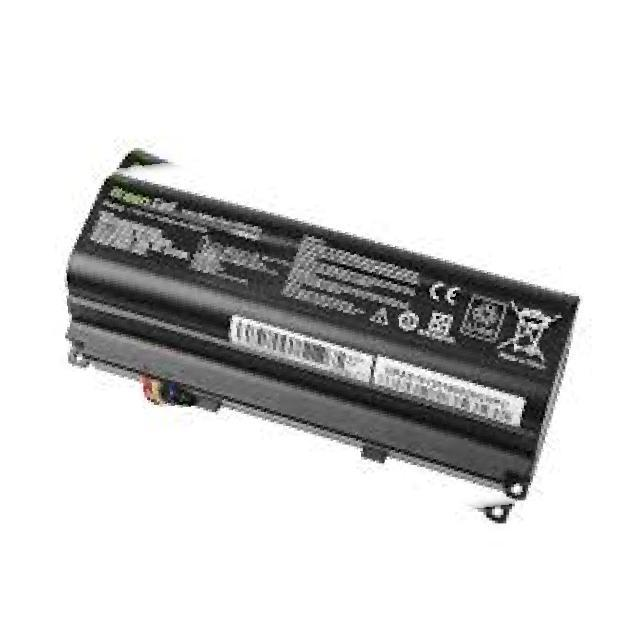Battery: (52, 154, 604, 562)
